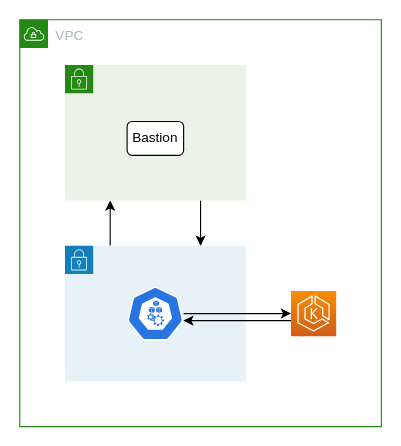
This 401x446 diagram has some shape labels left out. The box of each missing label's shape, as (x1, y1, x2, y2) in pixels:
Private subnet: (64, 245, 246, 381)
Public subnet: (64, 64, 246, 201)
